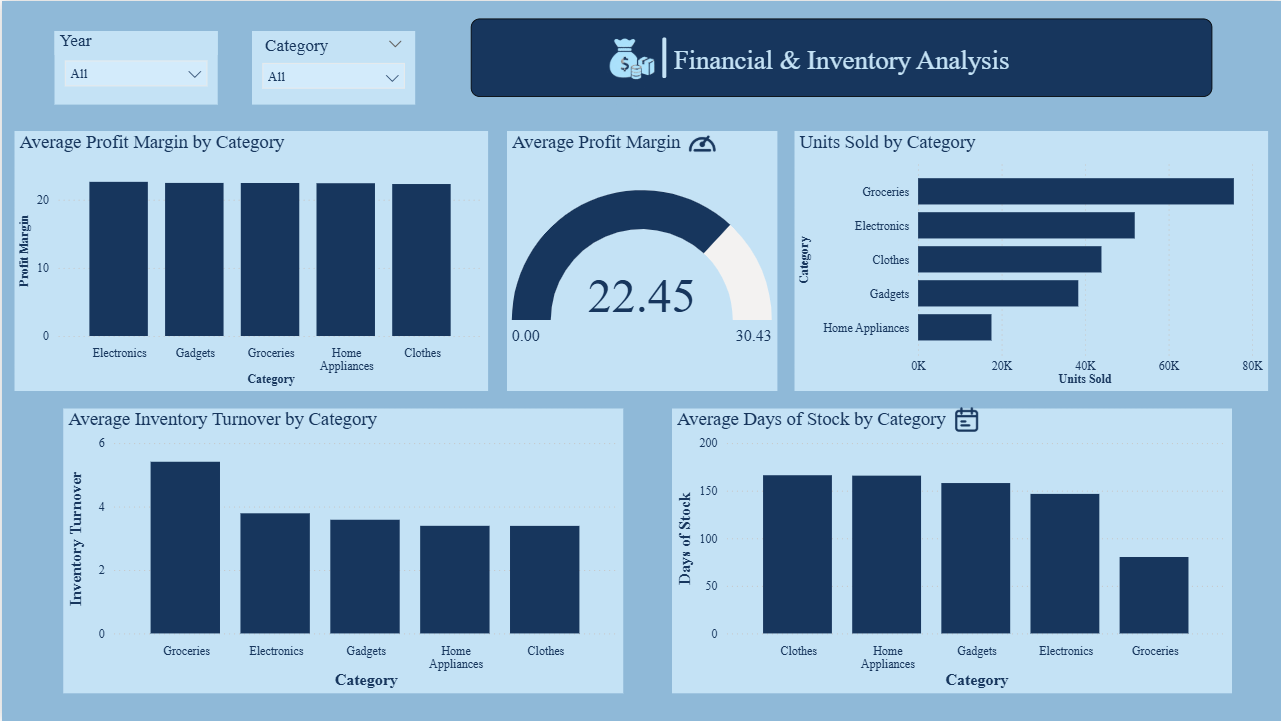

The page's visual inventory and layout, read from the dashboard file:
{"tool":"powerbi","page":{"name":"Financial & Inventory Analysis","canvas":[1280,720],"ordinal":1},"visuals":[{"type":"gauge","title":"Average Profit Margin","fields":{"Y":["Avg(BrandX_India_Dataset_Analysis.Profit_Margin)"]},"box":[505,130,270,260],"z":0},{"type":"clusteredColumnChart","title":"Average Inventory Turnover by Category","fields":{"Category":["BrandX_India_Dataset_Analysis.Category"],"Y":["Avg(BrandX_India_Dataset_Analysis.Inventory_Turnover)"]},"box":[61.5,407.8,559.8,284.7],"z":1000},{"type":"clusteredColumnChart","title":"Average Days of Stock by Category","fields":{"Category":["BrandX_India_Dataset_Analysis.Category"],"Y":["Avg(BrandX_India_Dataset_Analysis.Days_of_Stock)"]},"box":[669.6,407.8,559.8,284.7],"z":2000},{"type":"clusteredBarChart","title":"Units Sold by Category","fields":{"Y":["Sum(BrandX_India_Dataset_Analysis.Units_Sold)"],"Category":["BrandX_India_Dataset_Analysis.Category"]},"box":[792.5,130,473.8,260],"z":3000},{"type":"clusteredColumnChart","title":"Average Profit Margin by Category","fields":{"Y":["Avg(BrandX_India_Dataset_Analysis.Profit_Margin)"],"Category":["BrandX_India_Dataset_Analysis.Category"]},"box":[12.5,130,473.8,260],"z":4000},{"type":"slicer","title":"Year","fields":{"Values":["BrandX_India_Dataset_Analysis.Year"]},"box":[53.1,30.2,162.9,73.6],"z":5000},{"type":"slicer","fields":{"Values":["BrandX_India_Dataset_Analysis.Category"]},"box":[249.7,30.2,162.9,73.6],"z":6000},{"type":"textbox","box":[469.3,16.9,742,78.4],"z":7000},{"type":"image","box":[936.2,399.3,56.7,41],"z":8000},{"type":"image","box":[678,117,45.8,45.8],"z":9000},{"type":"shape","box":[639.4,36.2,44.6,41],"z":10000},{"type":"image","box":[547.5,0,163.8,113.8],"z":11000}]}

Visuals, with their boxes in screenshot pixels (x1, y1, x2, y2), scaled from the page's 1280x720 canvas onto the 1281x721 screenshot:
"Average Profit Margin" gauge: <box>505,130,776,391</box>
"Average Inventory Turnover by Category" clusteredColumnChart: <box>62,408,622,693</box>
"Average Days of Stock by Category" clusteredColumnChart: <box>670,408,1230,693</box>
"Units Sold by Category" clusteredBarChart: <box>793,130,1267,391</box>
"Average Profit Margin by Category" clusteredColumnChart: <box>13,130,487,391</box>
"Year" slicer: <box>53,30,216,104</box>
slicer - BrandX_India_Dataset_Analysis.Category: <box>250,30,413,104</box>
textbox: <box>470,17,1212,95</box>
image: <box>937,400,994,441</box>
image: <box>679,117,724,163</box>
shape: <box>640,36,685,77</box>
image: <box>548,0,712,114</box>
